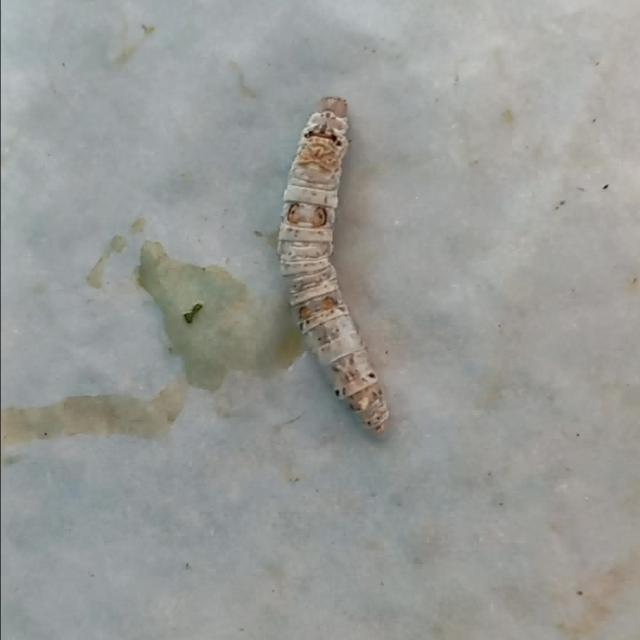Grasserie: (265, 75, 418, 449)
